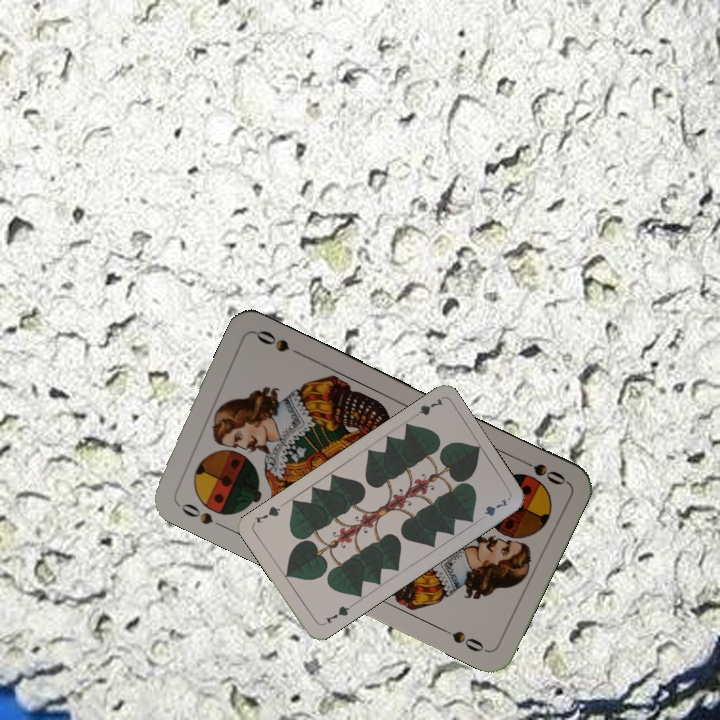G7: (407, 394, 445, 422), (321, 601, 354, 626)
SO: (513, 454, 569, 488), (171, 496, 226, 530)
